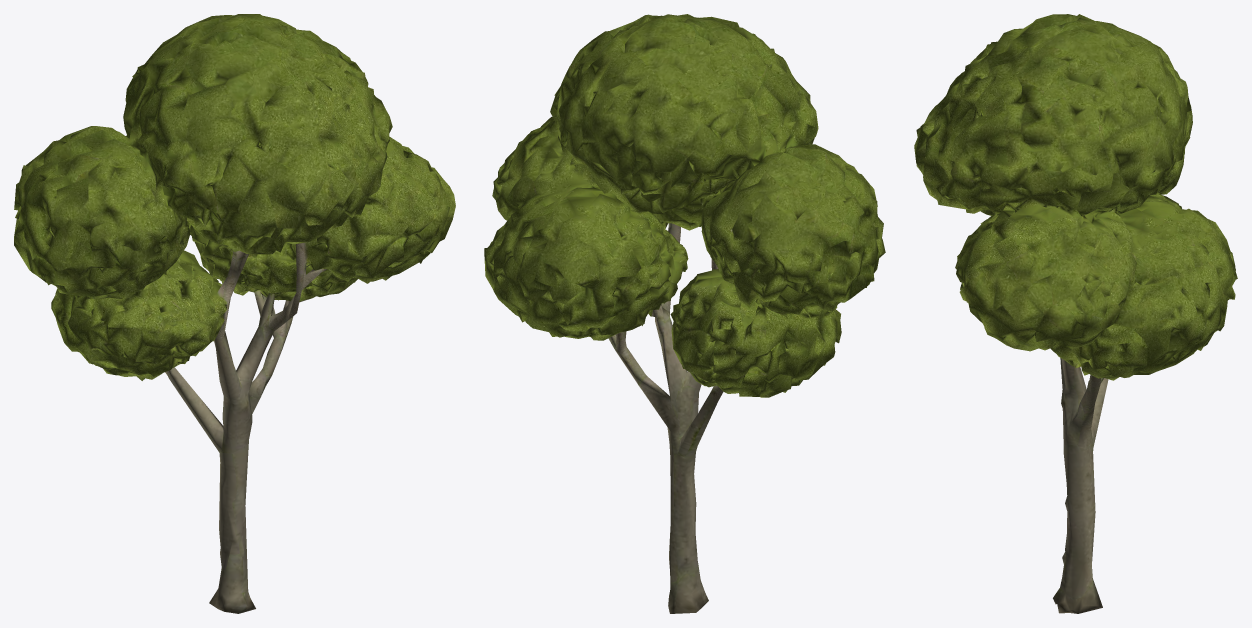
Rendered from haya_joven_alto.glb.
The picture shows the model from 3 angles, left to right: view 1: azimuth 30°, elevation 25°; view 2: azimuth 150°, elevation 25°; view 3: azimuth 270°, elevation 25°; orthographic projection.
Parts seen in each view (by area): view 1: alto; view 2: alto; view 3: alto.
Part boxes in pixels (x1,y1,x2,y2): alto: (14,14,455,613); alto: (484,14,885,613); alto: (914,14,1237,613).
Size of the model in its own units: 2.83 by 4 by 2.
Materials: 1 (1 with a texture image).
